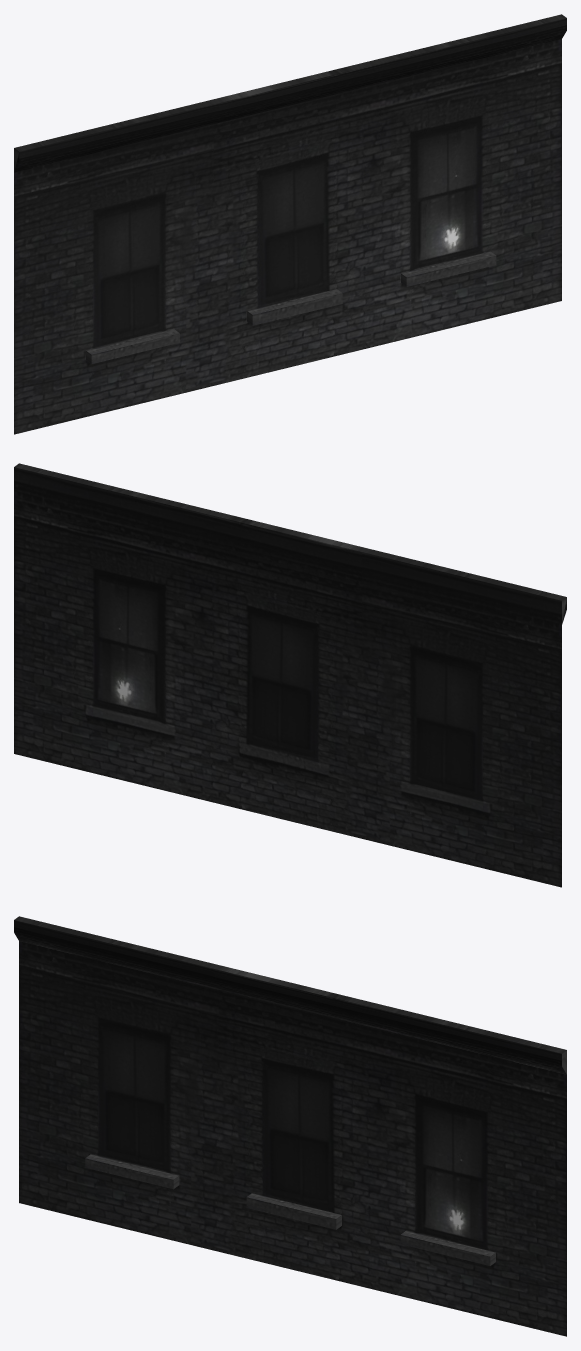
The model's file is floor.obj.
3 renders of one model, top to bottom at view 1: azimuth 30°, elevation 25°; view 2: azimuth 150°, elevation 25°; view 3: azimuth 330°, elevation 25°, orthographic.
Parts seen in each view (by area): view 1: group; view 2: group; view 3: group.
Part boxes in pixels (<box>): group: <box>14,14,566,434</box>; group: <box>14,463,566,887</box>; group: <box>14,916,566,1336</box>.
Bounding box in the file's own units: 10 × 5 × 0.177.
1 material, 1 textured.
